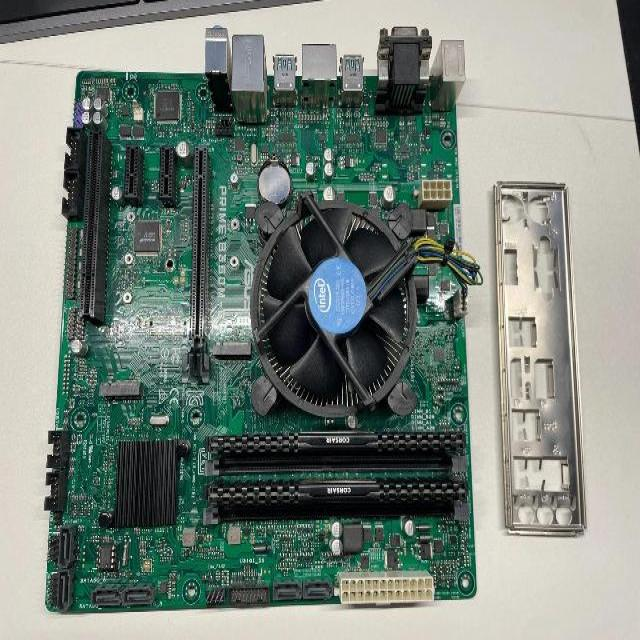CPU_Fan: (249, 189, 419, 420)
RAM: (218, 446, 458, 471)
